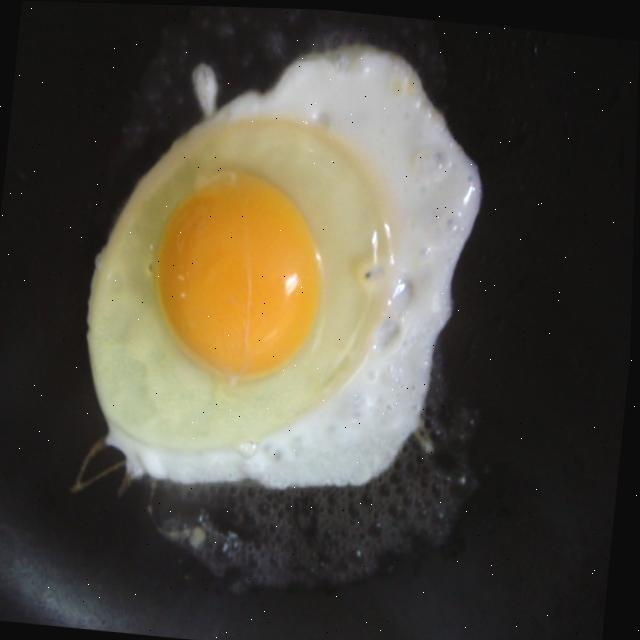鸡蛋料理: (71, 2, 490, 546)
